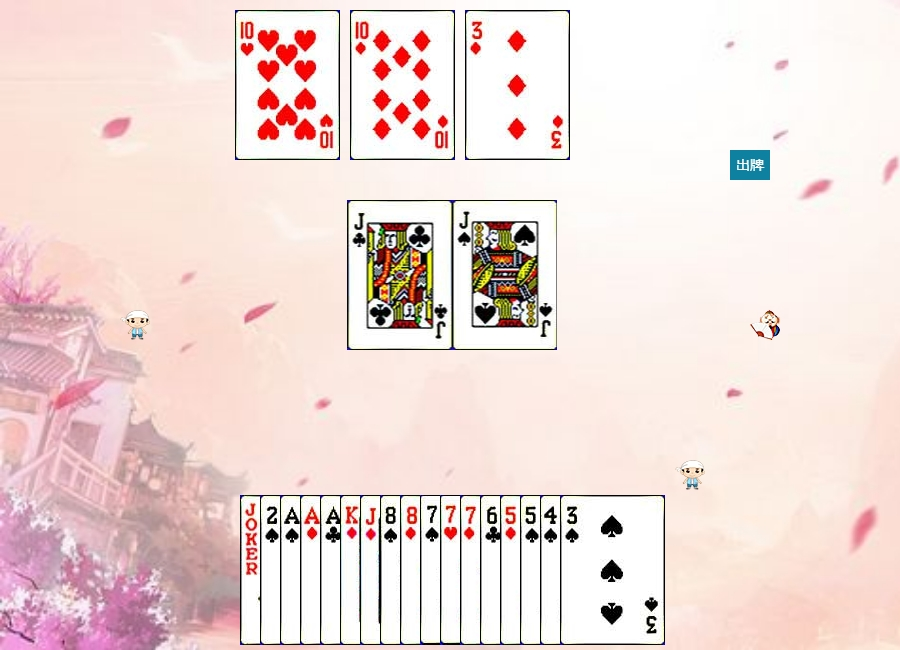10~1: (350, 10, 455, 160)
10~3: (235, 10, 340, 160)
11~1: (360, 495, 465, 645)
11~2: (348, 200, 453, 350)
11~4: (453, 200, 558, 350)
13~1: (340, 495, 445, 645)
14~1: (300, 495, 405, 645)
14~2: (320, 495, 425, 645)
14~4: (280, 495, 385, 645)
15~4: (260, 495, 365, 645)
18~4: (240, 495, 345, 645)
3~1: (465, 10, 570, 160)
3~4: (560, 495, 665, 645)
4~4: (540, 495, 645, 645)
5~1: (500, 495, 605, 645)
5~4: (520, 495, 625, 645)
6~2: (480, 495, 585, 645)
7~1: (460, 495, 565, 645)
7~3: (440, 495, 545, 645)
7~4: (420, 495, 525, 645)
8~1: (400, 495, 505, 645)
8~4: (380, 495, 485, 645)
